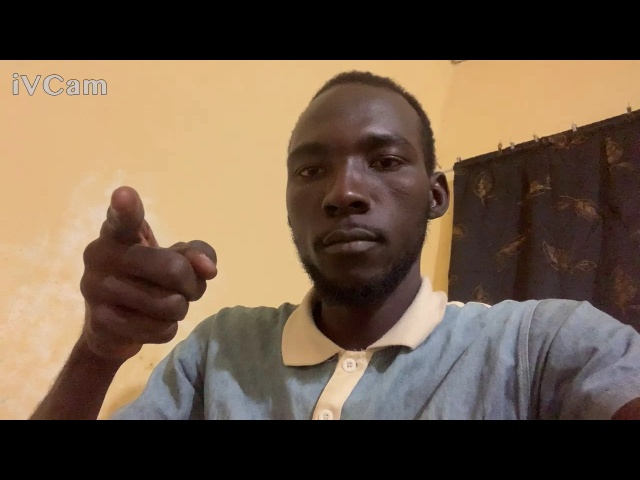tu: (71, 181, 223, 372)
